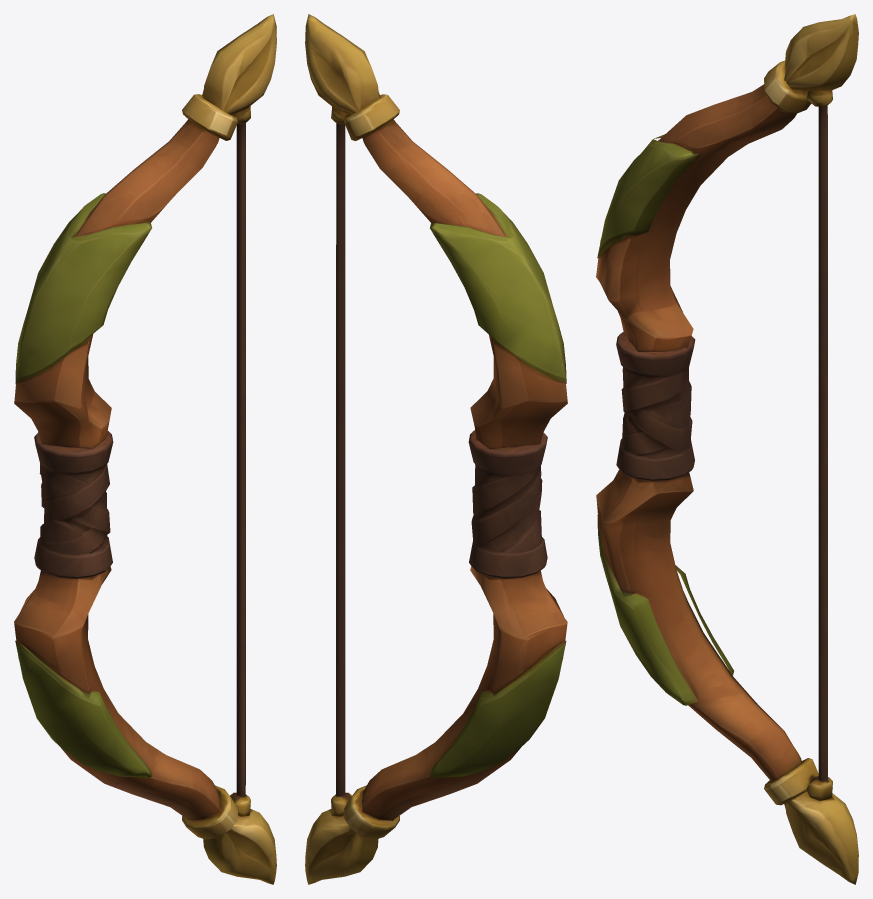
The model's file is elf-rogue-bow-v1.glb.
The picture shows the model from 3 angles, left to right: view 1: azimuth 30°, elevation 25°; view 2: azimuth 150°, elevation 25°; view 3: azimuth 330°, elevation 25°; orthographic projection.
Parts seen in each view (by area): view 1: tripo_1ea6529b_ea72_4a37_8959_bc719855d624; view 2: tripo_1ea6529b_ea72_4a37_8959_bc719855d624; view 3: tripo_1ea6529b_ea72_4a37_8959_bc719855d624.
Boxes of the visible parts, bbox=[...] form: tripo_1ea6529b_ea72_4a37_8959_bc719855d624: bbox=[14, 14, 276, 884]; tripo_1ea6529b_ea72_4a37_8959_bc719855d624: bbox=[305, 14, 567, 884]; tripo_1ea6529b_ea72_4a37_8959_bc719855d624: bbox=[596, 14, 858, 884].
Bounding box in the file's own units: 0.3149 × 0.9995 × 0.1089.
Materials: 1 (1 with a texture image).
